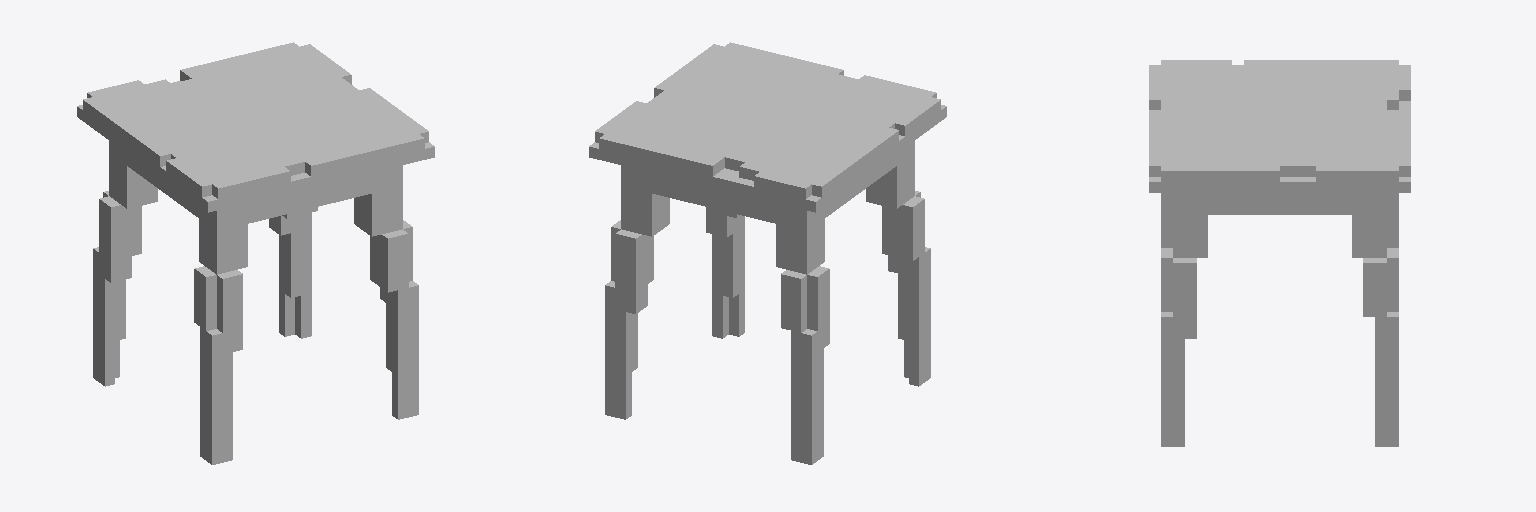
File: stool.obj
The picture shows the model from 3 angles: view 1: azimuth 30°, elevation 25°; view 2: azimuth 150°, elevation 25°; view 3: azimuth 270°, elevation 25°; orthographic projection.
Parts seen in each view (by area): view 1: object 1; view 2: object 1; view 3: object 1.
Part boxes in pixels (bbox=[...]): object 1: bbox=[77, 42, 434, 464]; object 1: bbox=[589, 42, 946, 464]; object 1: bbox=[1149, 60, 1410, 446].
Size of the model in its own units: 2.2 by 2.6 by 2.2.